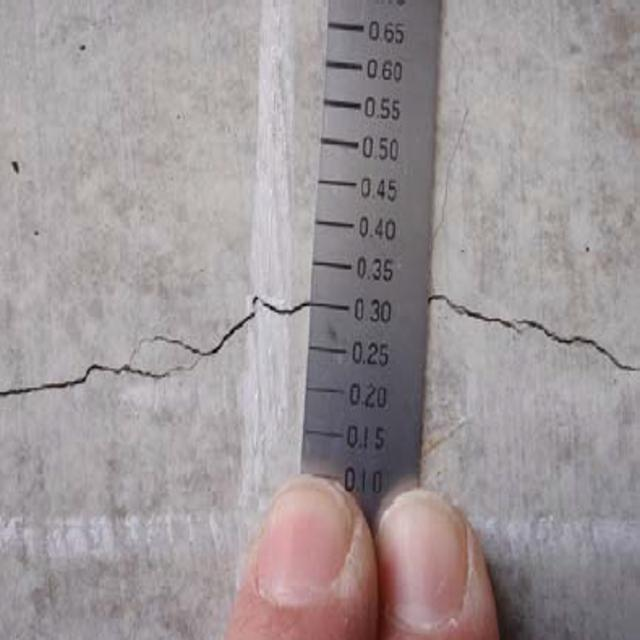crack: (0, 266, 310, 400), (434, 274, 640, 379)
